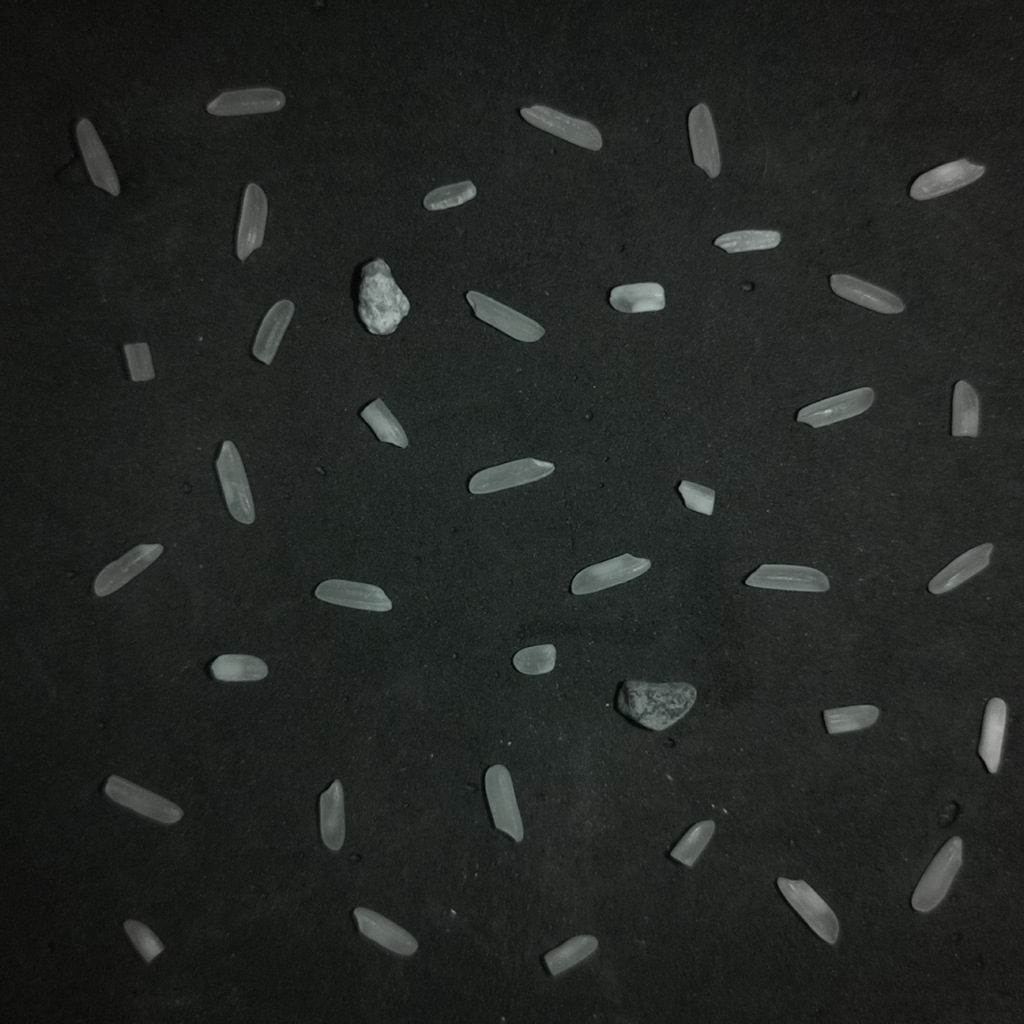broken: (543, 934, 597, 976), (669, 820, 715, 867), (123, 343, 154, 381)
chalky: (777, 877, 838, 943), (466, 291, 544, 342), (911, 837, 962, 912), (520, 105, 602, 150), (571, 553, 650, 594), (352, 907, 417, 956), (216, 441, 254, 524), (796, 387, 874, 427), (909, 159, 985, 200), (484, 764, 523, 842), (829, 274, 904, 313), (315, 579, 391, 611), (360, 398, 408, 448), (978, 697, 1007, 773), (318, 779, 345, 851), (123, 919, 163, 962), (609, 282, 664, 313), (822, 705, 879, 734), (714, 229, 780, 253), (951, 380, 979, 436), (209, 654, 267, 681), (512, 643, 555, 674), (678, 480, 714, 515)
foreign: (357, 258, 409, 335), (616, 680, 696, 730)
whole: (103, 775, 182, 824), (93, 544, 163, 596), (75, 119, 120, 196), (928, 542, 993, 594), (468, 458, 554, 494), (252, 299, 293, 364), (744, 564, 829, 592), (236, 184, 267, 260), (689, 103, 720, 178), (206, 87, 284, 115), (424, 180, 474, 209)
